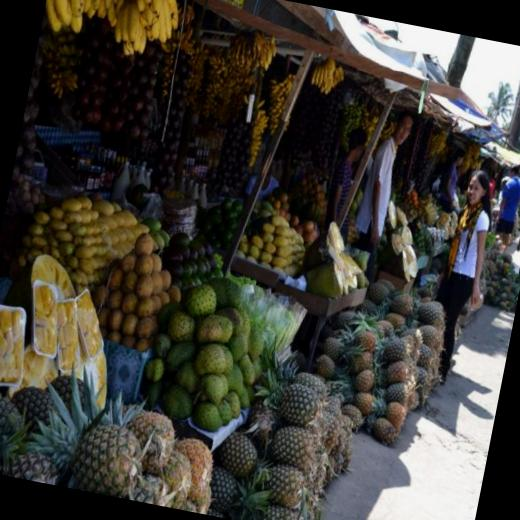Mango: (0, 342, 235, 514), (299, 269, 460, 451), (217, 335, 370, 520), (471, 240, 520, 313)
